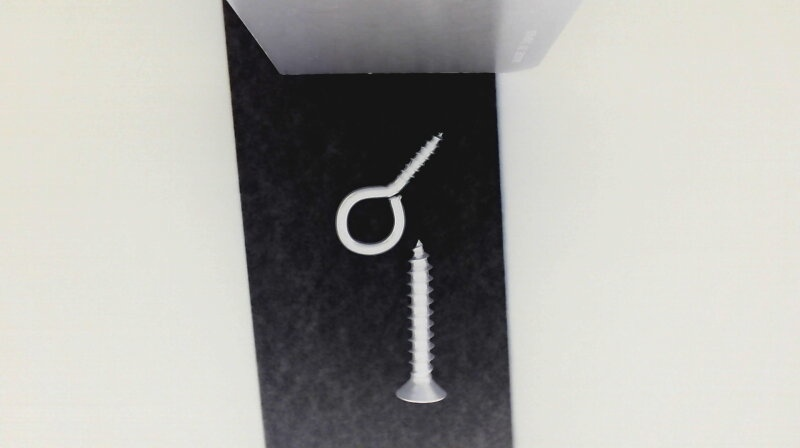O001: (335, 132, 444, 257)
S001: (395, 238, 447, 403)
